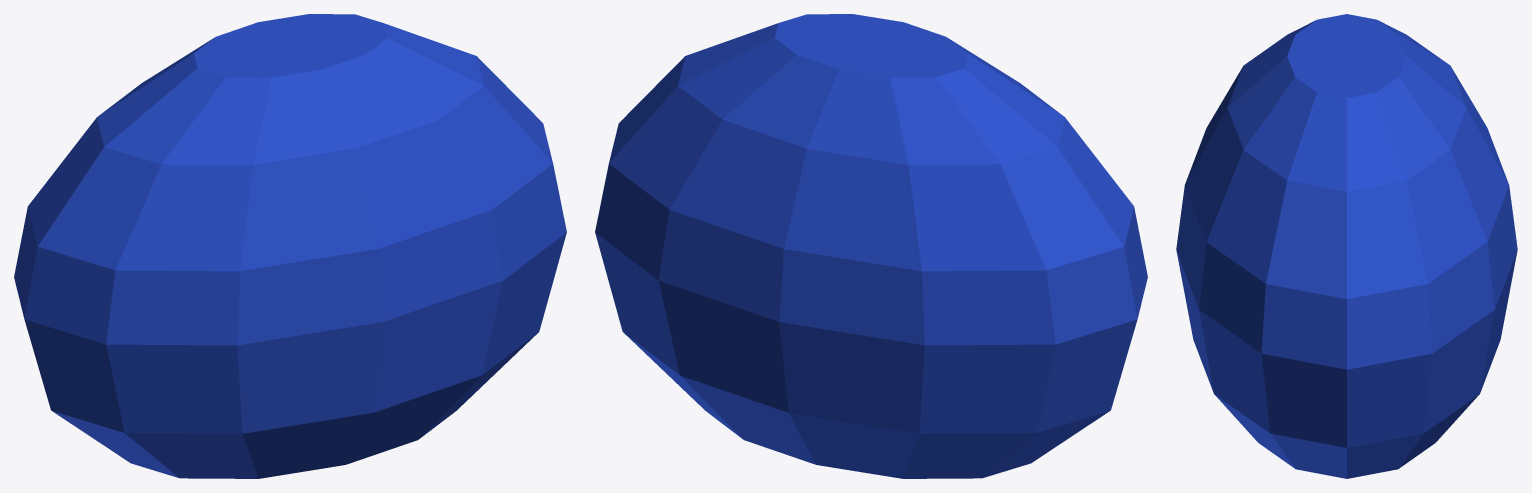
Rendered from SM_Sapphire_Normal.fbx.
3 views of the same model, side by side, from view 1: azimuth 30°, elevation 25°; view 2: azimuth 150°, elevation 25°; view 3: azimuth 270°, elevation 25° (orthographic). The views are drawn at different scales.
Visible parts, largest first — view 1: SM_Sapphire_Normal; view 2: SM_Sapphire_Normal; view 3: SM_Sapphire_Normal.
Boxes of the visible parts, box(x1,y1,x2,y2) form: SM_Sapphire_Normal: box(14, 14, 566, 478); SM_Sapphire_Normal: box(595, 14, 1147, 478); SM_Sapphire_Normal: box(1176, 14, 1517, 478).
Bounding box in the file's own units: 20 × 12 × 15.
